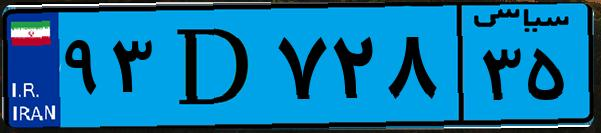2: (330, 28, 385, 110)
3: (475, 38, 525, 113), (110, 28, 158, 98)
5: (525, 38, 570, 115)
7: (270, 28, 330, 110)
8: (385, 28, 445, 110)
9: (57, 26, 110, 100)
D: (158, 12, 270, 120)
